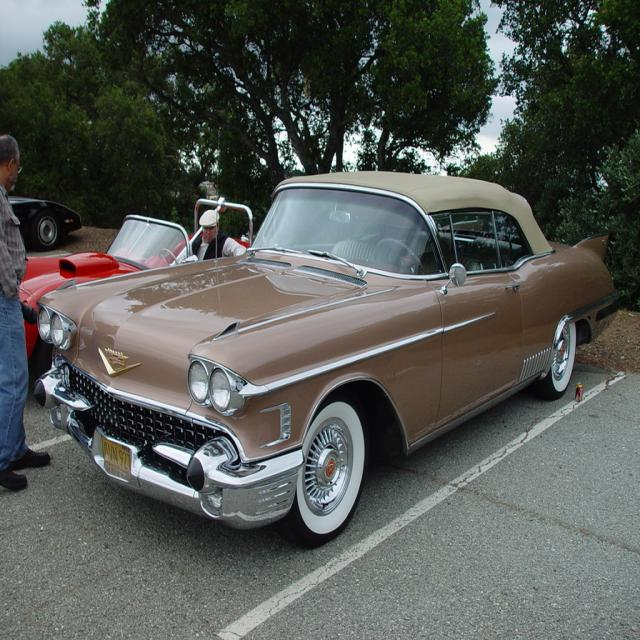car: (33, 172, 623, 548)
